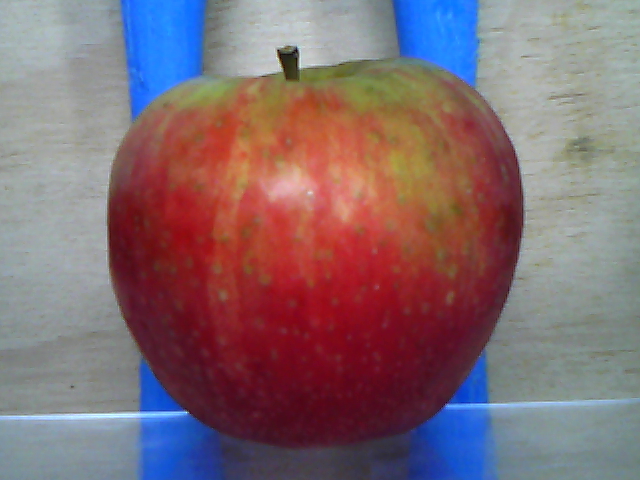stem: (278, 47, 300, 81)
